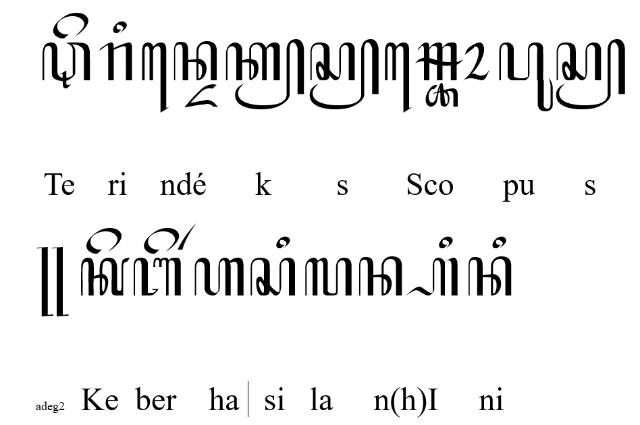-k: (226, 38, 304, 110)
-s: (310, 38, 380, 110), (556, 38, 626, 110)
K: (80, 258, 130, 296)
S: (416, 40, 462, 82)
T: (41, 41, 90, 89)
_c: (425, 82, 459, 108)
_d: (184, 84, 218, 108)
_h: (404, 257, 458, 297)
_r1: (177, 224, 197, 250)
adeg2: (36, 247, 54, 318), (52, 247, 68, 318)
b: (132, 258, 182, 296)
e: (52, 12, 90, 38), (85, 227, 121, 253), (143, 228, 179, 254)
e1: (142, 41, 168, 114), (384, 42, 411, 112)
h: (193, 258, 244, 296)
i: (112, 21, 128, 35), (438, 237, 454, 250), (491, 236, 507, 248), (276, 236, 290, 248)
l: (304, 258, 352, 296)
n: (358, 256, 404, 296), (173, 42, 217, 82), (468, 256, 512, 296)
o: (464, 41, 491, 81)
pu: (498, 42, 554, 112)
r: (99, 41, 133, 81)
s: (250, 256, 296, 296)
